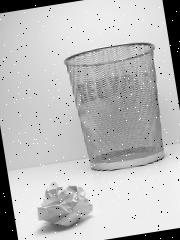paper: (32, 174, 95, 230)
